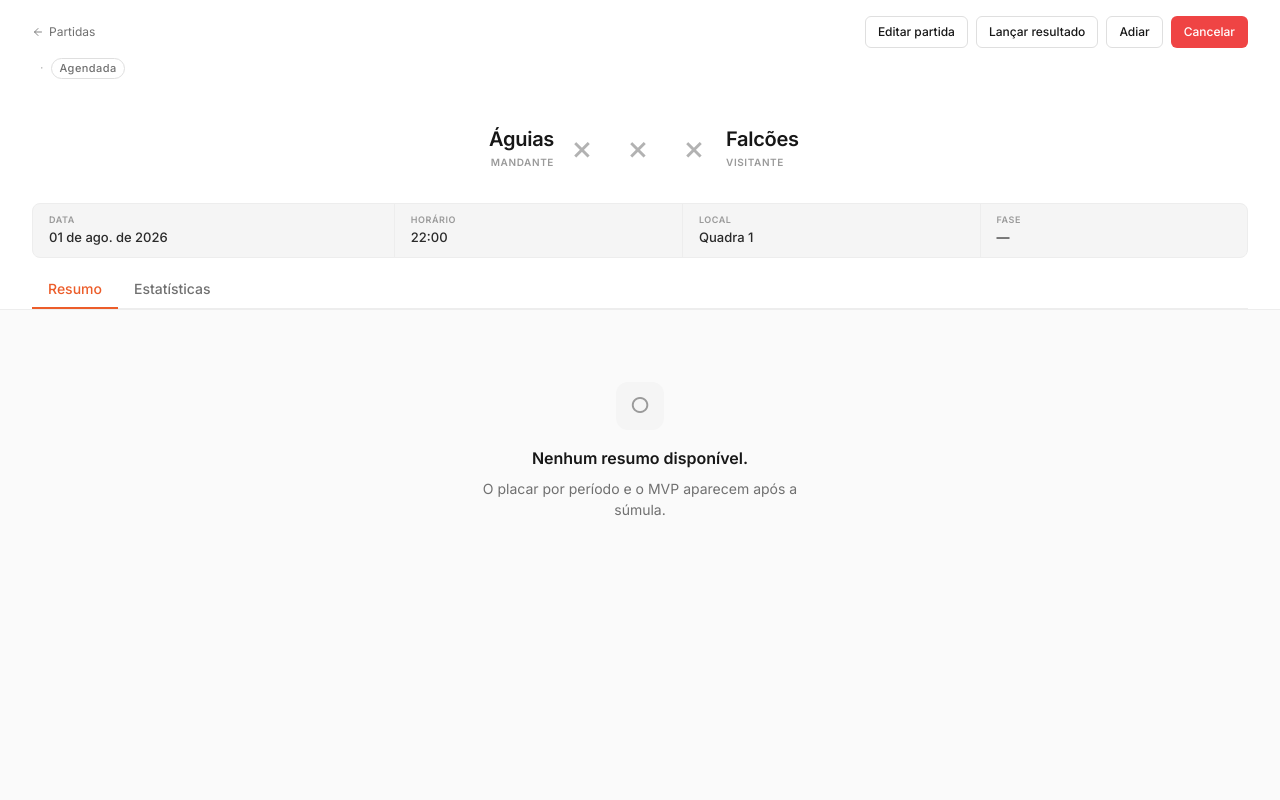
Test: MatchDetailPage — admin actions › asks for inline confirmation before cancelling
Click the button "Cancelar" at (1209, 32), box [1171,16,1248,48]
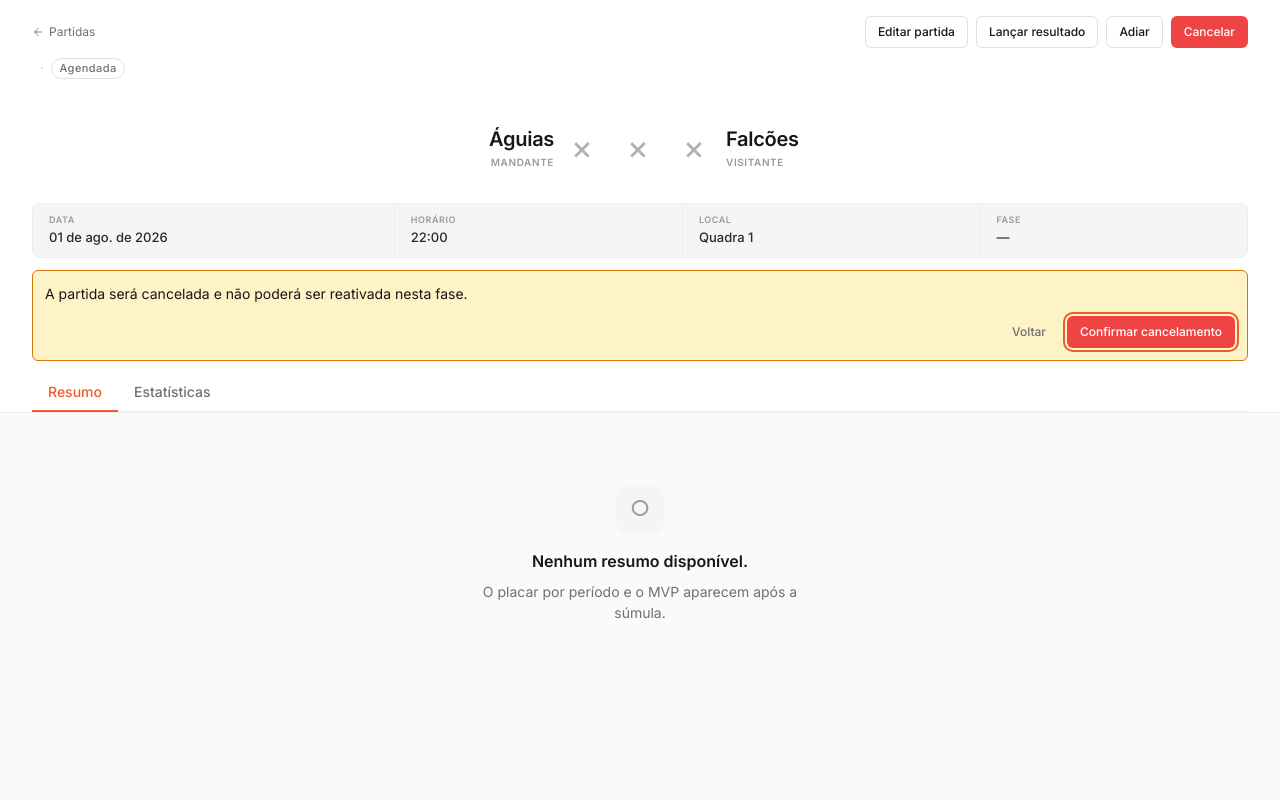
Check: the dialog shows "A partida será cancelada e não poderá ser reativada nesta fase.", box [45,284,468,302]
